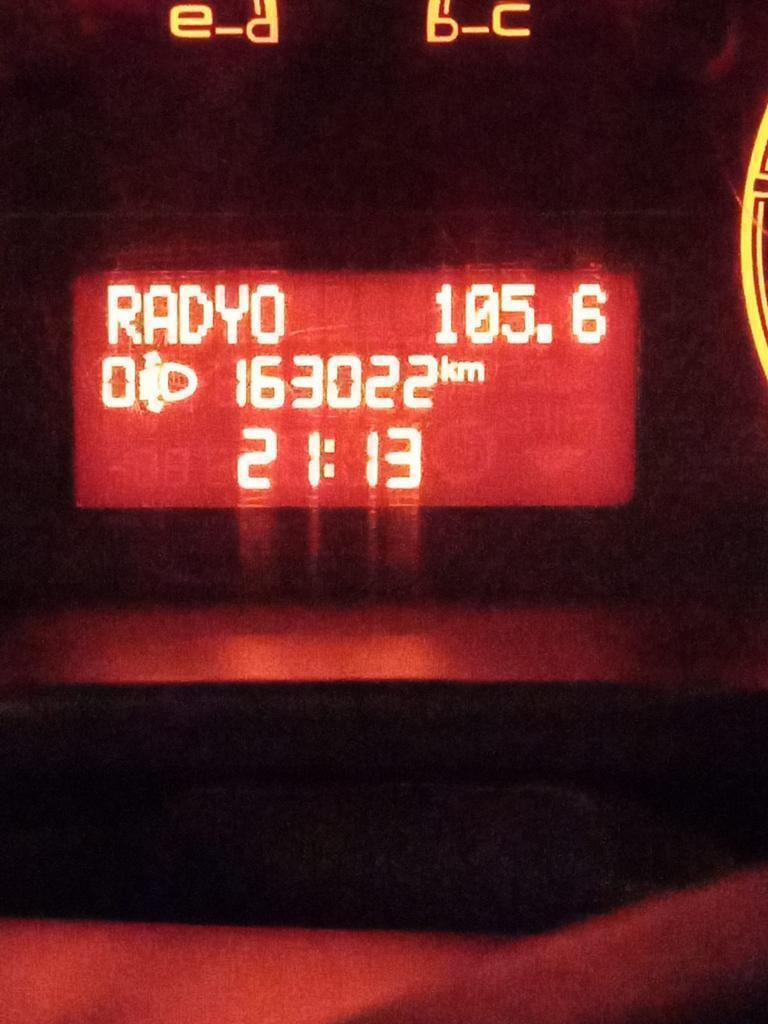,: (538, 320, 558, 351)
0: (96, 352, 139, 413), (461, 279, 497, 349), (324, 350, 363, 413)
1: (430, 275, 458, 349), (361, 427, 384, 490), (225, 354, 248, 410), (302, 427, 321, 490)
2: (233, 423, 279, 493), (402, 350, 439, 412), (363, 351, 400, 413)
3: (384, 424, 426, 493), (290, 350, 322, 413)
5: (500, 278, 538, 351)
6: (568, 278, 609, 347), (250, 352, 288, 413)
X: (246, 280, 289, 349), (103, 279, 142, 348), (141, 278, 179, 348), (177, 278, 214, 348), (213, 279, 248, 349), (456, 359, 487, 386), (321, 435, 339, 481), (436, 351, 457, 386)
odometer: (59, 255, 647, 522)
